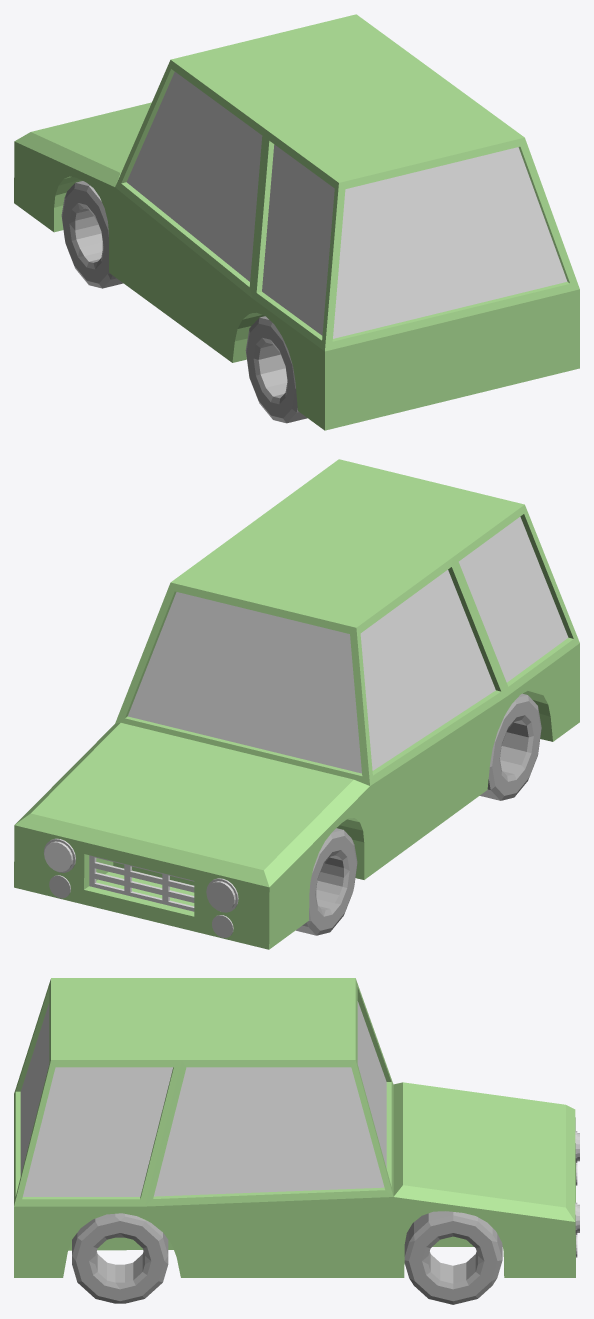
The model's file is car.fbx.
3 renders of one model, top to bottom at view 1: azimuth 30°, elevation 25°; view 2: azimuth 150°, elevation 25°; view 3: azimuth 270°, elevation 25°, orthographic. The views are drawn at different scales.
Parts seen in each view (by area): view 1: Cube.021; view 2: Cube.021, Cube.015; view 3: Cube.021.
Boxes of the visible parts, x1,y1,x2,y2 form: Cube.021: [14, 14, 579, 430]; Cube.021: [14, 459, 579, 949]; Cube.015: [43, 838, 238, 912]; Cube.021: [14, 978, 577, 1304].
Size of the model in its own units: 693 by 671 by 1473.
